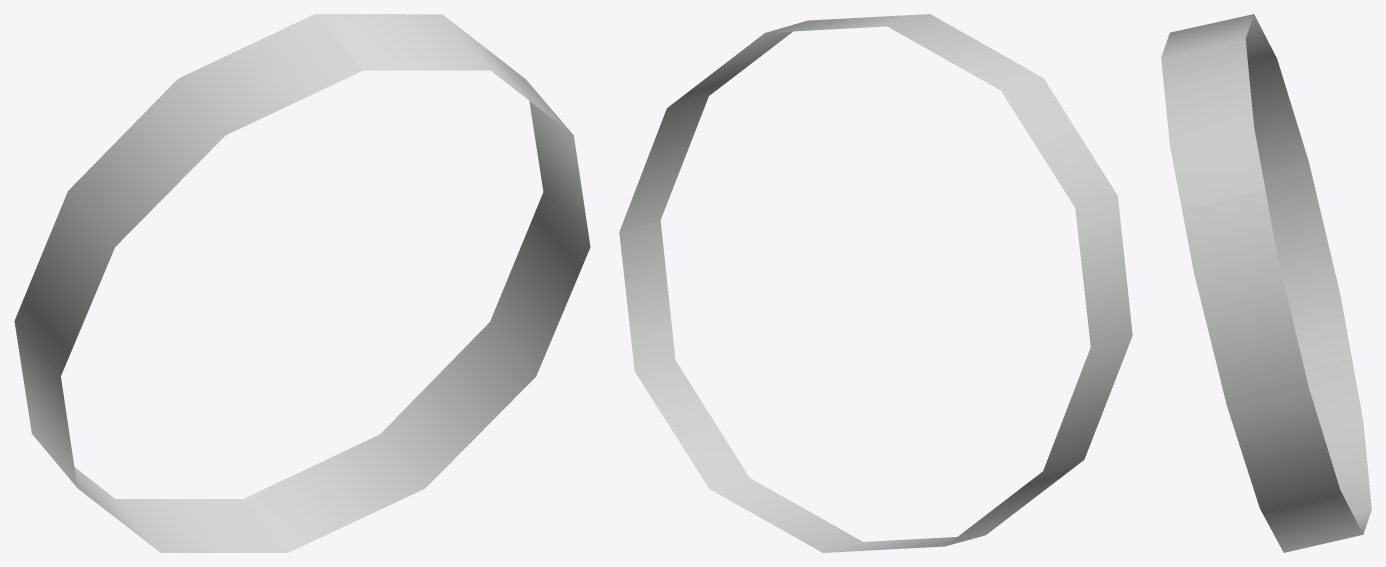
The model's file is luminairearm_caltrans15ftstraight_c6.obj.
3 views of the same model, side by side, from view 1: azimuth 30°, elevation 25°; view 2: azimuth 150°, elevation 25°; view 3: azimuth 270°, elevation 25° (orthographic). The views are drawn at different scales.
Parts seen in each view (by area): view 1: luminairearm_caltrans15ftstraight_c6; view 2: luminairearm_caltrans15ftstraight_c6; view 3: luminairearm_caltrans15ftstraight_c6.
Boxes of the visible parts, bbox=[...] form: luminairearm_caltrans15ftstraight_c6: bbox=[14, 14, 590, 552]; luminairearm_caltrans15ftstraight_c6: bbox=[619, 14, 1132, 552]; luminairearm_caltrans15ftstraight_c6: bbox=[1161, 14, 1371, 552].
Size of the model in its own units: 0.1836 by 0.185 by 0.0723.
